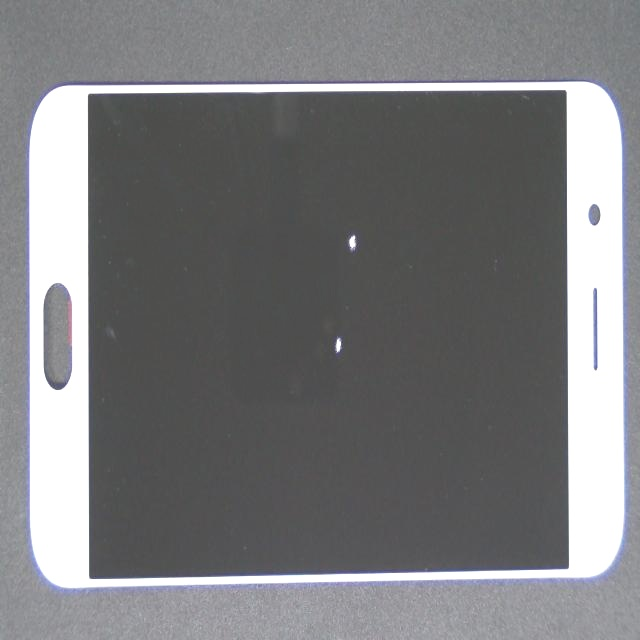stain: (179, 122, 492, 502), (195, 128, 545, 326)
